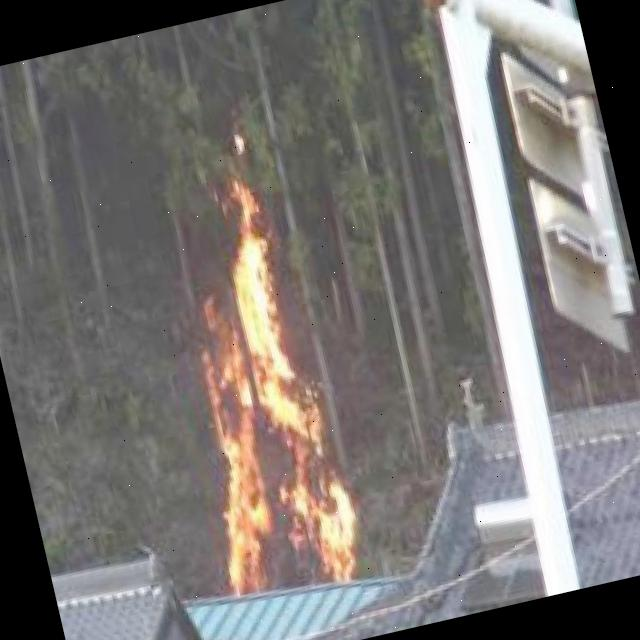fire: (145, 187, 373, 600)
